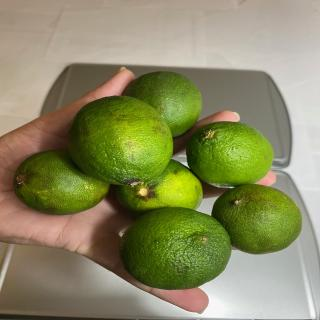Chilli: (13, 69, 302, 291)
Lemon: (67, 95, 174, 186), (118, 207, 232, 290), (12, 148, 110, 216), (211, 183, 303, 255), (186, 121, 274, 188), (122, 71, 202, 138), (115, 159, 203, 216)
